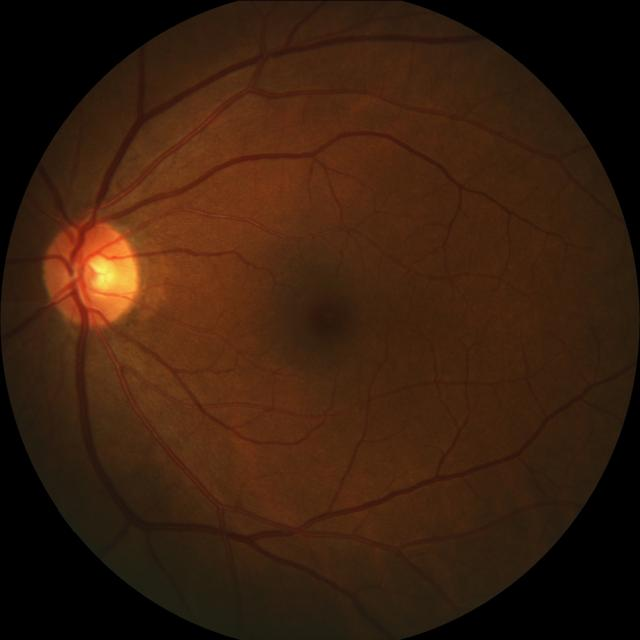OC: (71, 250, 117, 295)
OD: (48, 219, 140, 325)
